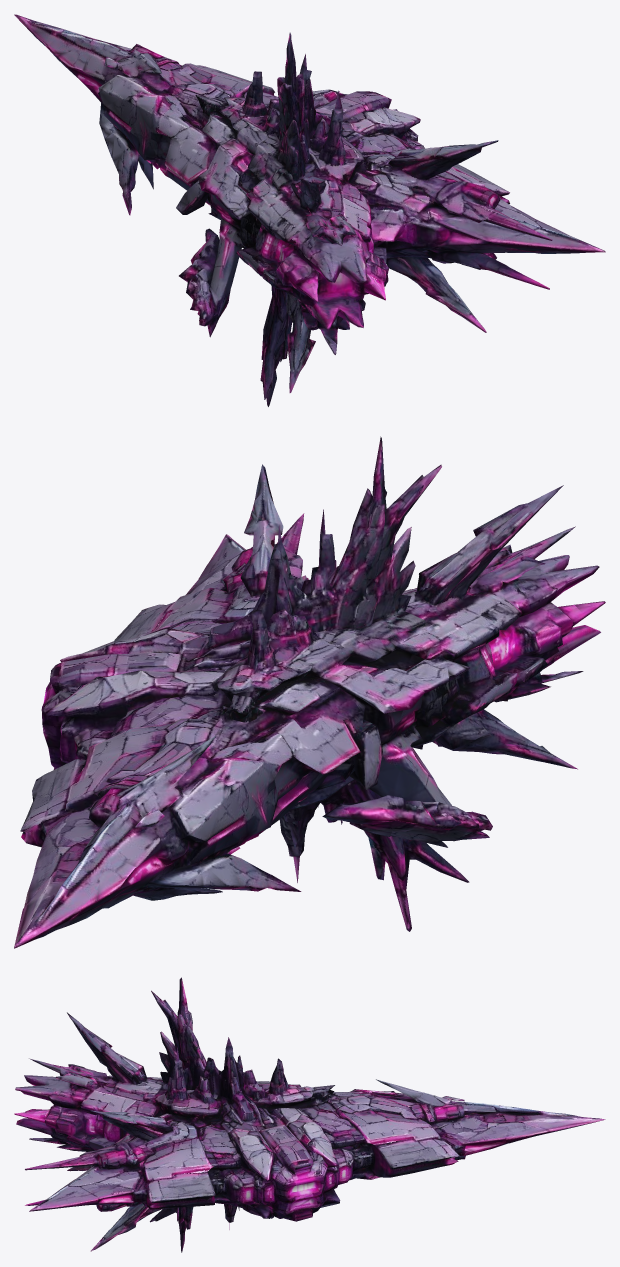
File: st3d_cyber_shardstorm_lod1.glb
3 renders of one model, top to bottom at view 1: azimuth 30°, elevation 25°; view 2: azimuth 150°, elevation 25°; view 3: azimuth 270°, elevation 25°, orthographic. The views are drawn at different scales.
Visible parts, largest first — view 1: HOMELANCER_Station3D_RoamingCybermorph-Shardstorm_v1; view 2: HOMELANCER_Station3D_RoamingCybermorph-Shardstorm_v1; view 3: HOMELANCER_Station3D_RoamingCybermorph-Shardstorm_v1.
Part boxes in pixels (x1=…): HOMELANCER_Station3D_RoamingCybermorph-Shardstorm_v1: x1=14, y1=14, x2=605, y2=406; HOMELANCER_Station3D_RoamingCybermorph-Shardstorm_v1: x1=14, y1=436, x2=605, y2=948; HOMELANCER_Station3D_RoamingCybermorph-Shardstorm_v1: x1=14, y1=977, x2=605, y2=1252.
Bounding box in the file's own units: 0.438 × 0.5102 × 0.9643.
1 material, 1 textured.
